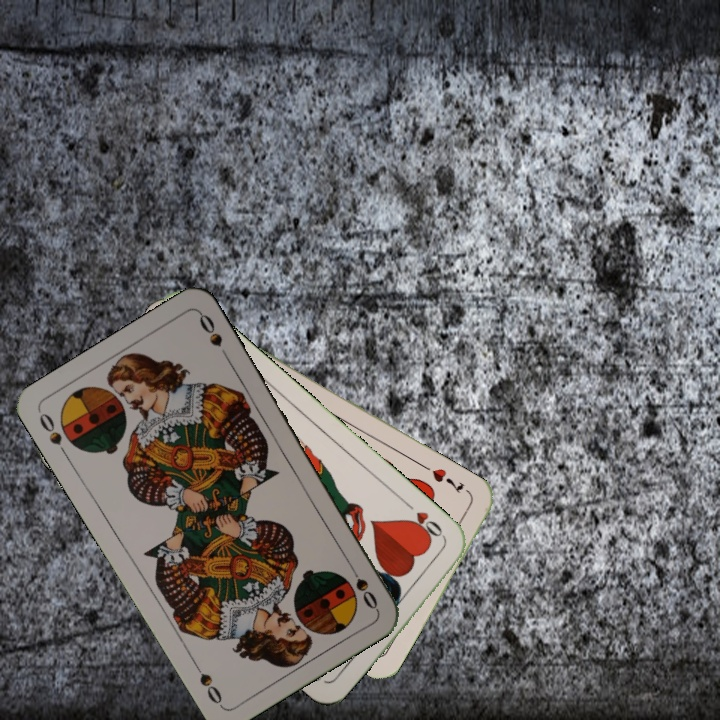H7: (428, 464, 467, 497)
HO: (401, 497, 449, 544)
SO: (344, 558, 381, 612), (35, 408, 71, 461)
